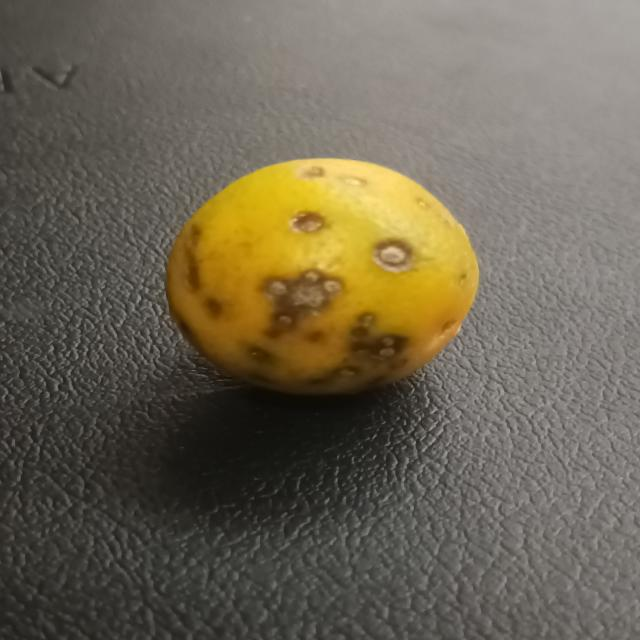black spot: (158, 154, 477, 402)
